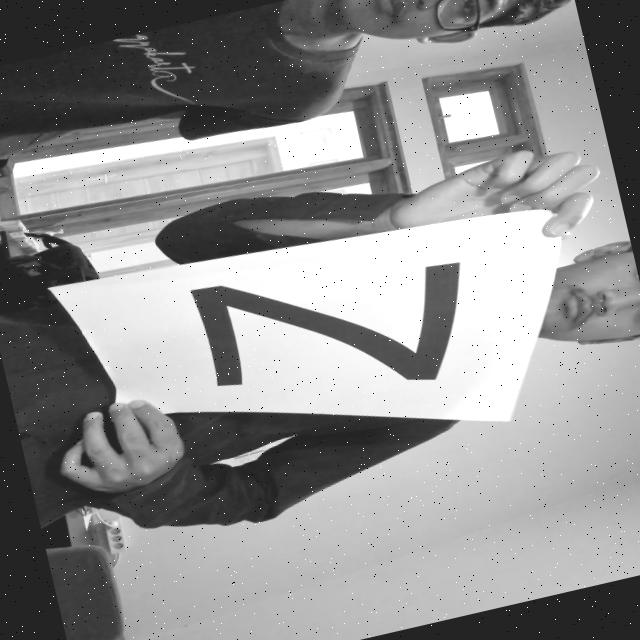z: (169, 223, 496, 441)
